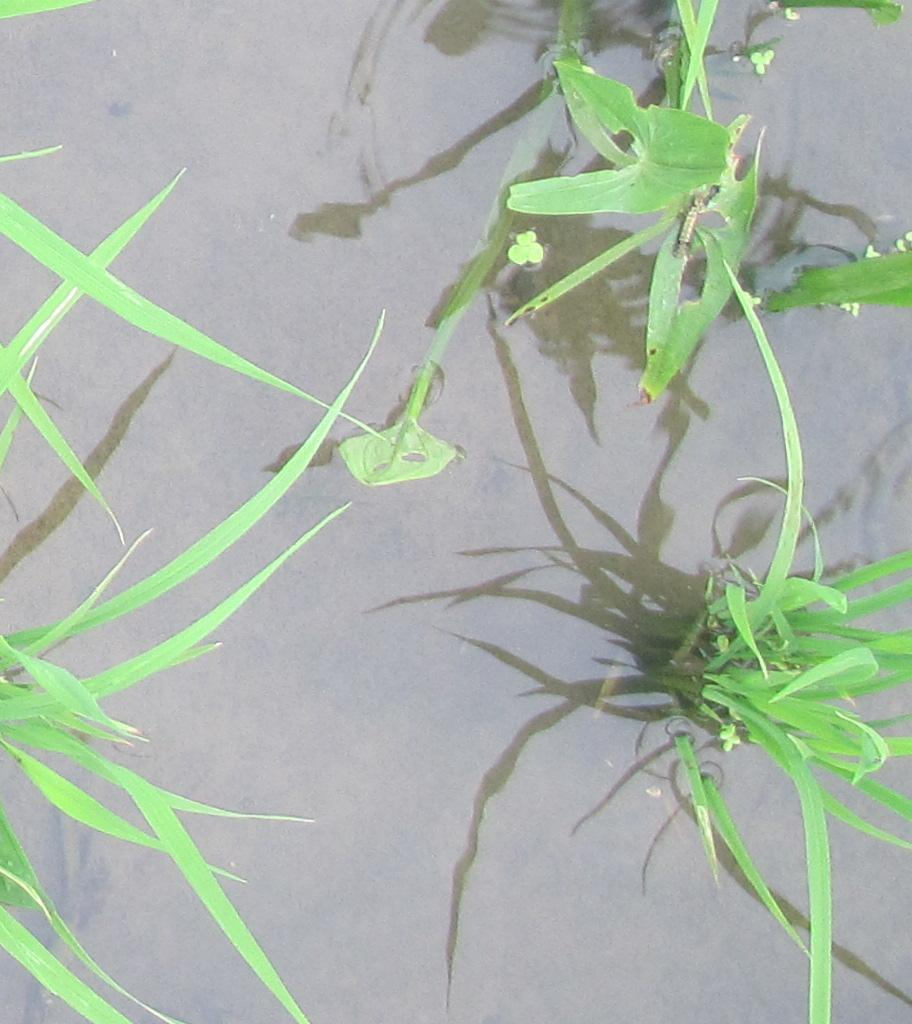Weed: (529, 57, 735, 227), (340, 422, 467, 494)
